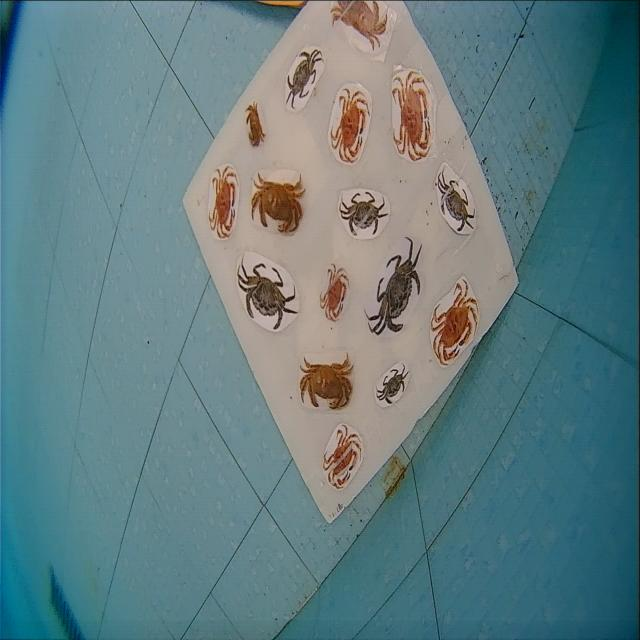GreenCrab: (367, 237, 422, 334), (238, 263, 298, 331), (340, 191, 388, 236), (376, 365, 408, 403)
